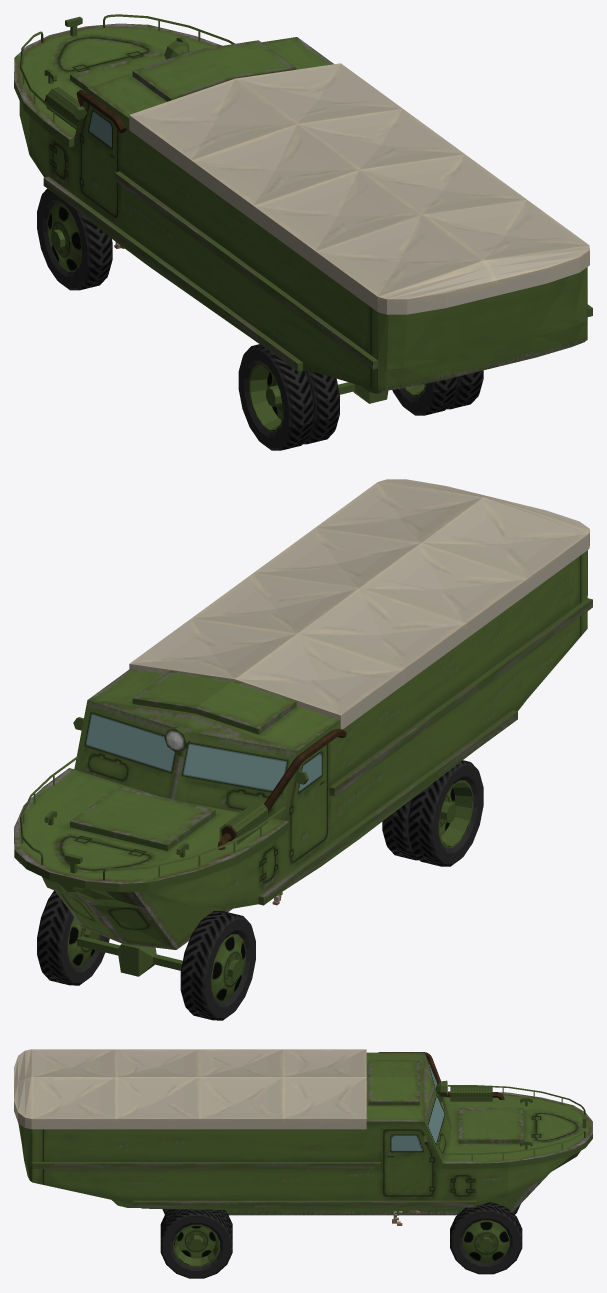
File: suki.glb
3 views of the same model, one above another, from view 1: azimuth 30°, elevation 25°; view 2: azimuth 150°, elevation 25°; view 3: azimuth 270°, elevation 25° (orthographic). The views are drawn at different scales.
Parts seen in each view (by area): view 1: 04_chassis_suki_chassis.mesh, 02_tire_index_2_suki_wheel_rear.mesh, 00_tire_index_0_suki_wheel_front.mesh, 03_tire_index_3_suki_wheel_rear.mesh; view 2: 04_chassis_suki_chassis.mesh, 02_tire_index_2_suki_wheel_rear.mesh, 00_tire_index_0_suki_wheel_front.mesh, 01_tire_index_1_suki_wheel_front.mesh; view 3: 04_chassis_suki_chassis.mesh, 03_tire_index_3_suki_wheel_rear.mesh, 01_tire_index_1_suki_wheel_front.mesh.
Boxes of the visible parts, left/top/right/bottom form: 04_chassis_suki_chassis.mesh: left=14, top=14, right=592, bottom=403; 02_tire_index_2_suki_wheel_rear.mesh: left=238, top=344, right=339, bottom=450; 00_tire_index_0_suki_wheel_front.mesh: left=37, top=188, right=112, bottom=290; 03_tire_index_3_suki_wheel_rear.mesh: left=392, top=370, right=483, bottom=415; 04_chassis_suki_chassis.mesh: left=14, top=479, right=592, bottom=976; 02_tire_index_2_suki_wheel_rear.mesh: left=382, top=760, right=483, bottom=866; 00_tire_index_0_suki_wheel_front.mesh: left=180, top=911, right=255, bottom=1020; 01_tire_index_1_suki_wheel_front.mesh: left=37, top=890, right=109, bottom=985; 04_chassis_suki_chassis.mesh: left=14, top=1049, right=592, bottom=1215; 03_tire_index_3_suki_wheel_rear.mesh: left=160, top=1209, right=232, bottom=1278; 01_tire_index_1_suki_wheel_front.mesh: left=450, top=1202, right=522, bottom=1274.
Bounding box in the file's own units: 3.25 × 3.37 × 10.36.
Materials: 37 (1 with a texture image).
